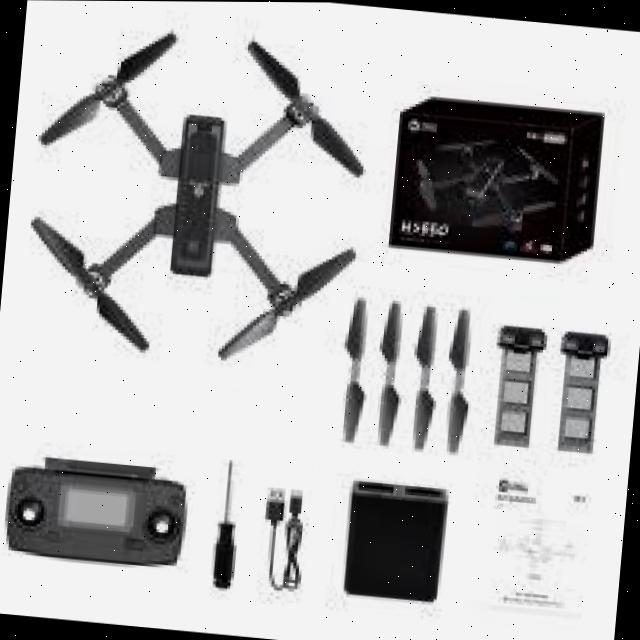drone: (12, 13, 384, 386)
